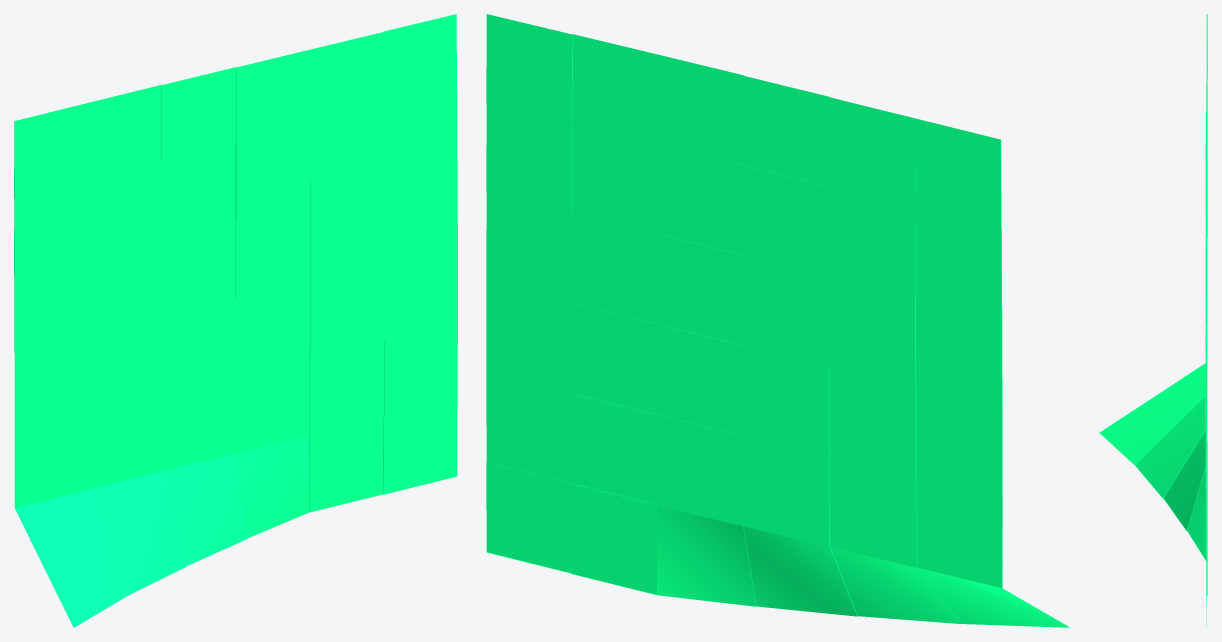
File: sieve_eratosthenes_ar_universal.glb
3 views of the same model, side by side, from view 1: azimuth 30°, elevation 25°; view 2: azimuth 150°, elevation 25°; view 3: azimuth 270°, elevation 25° (orthographic). The views are drawn at different scales.
Visible parts, largest first — view 1: sieve_eratosthenes_ar; view 2: sieve_eratosthenes_ar; view 3: sieve_eratosthenes_ar.
Part boxes in pixels (x1,y1,x2,y2): sieve_eratosthenes_ar: [14, 14, 457, 627]; sieve_eratosthenes_ar: [486, 14, 1070, 627]; sieve_eratosthenes_ar: [1099, 14, 1207, 627].
Size of the model in its own units: 1 by 1 by 0.2341.
